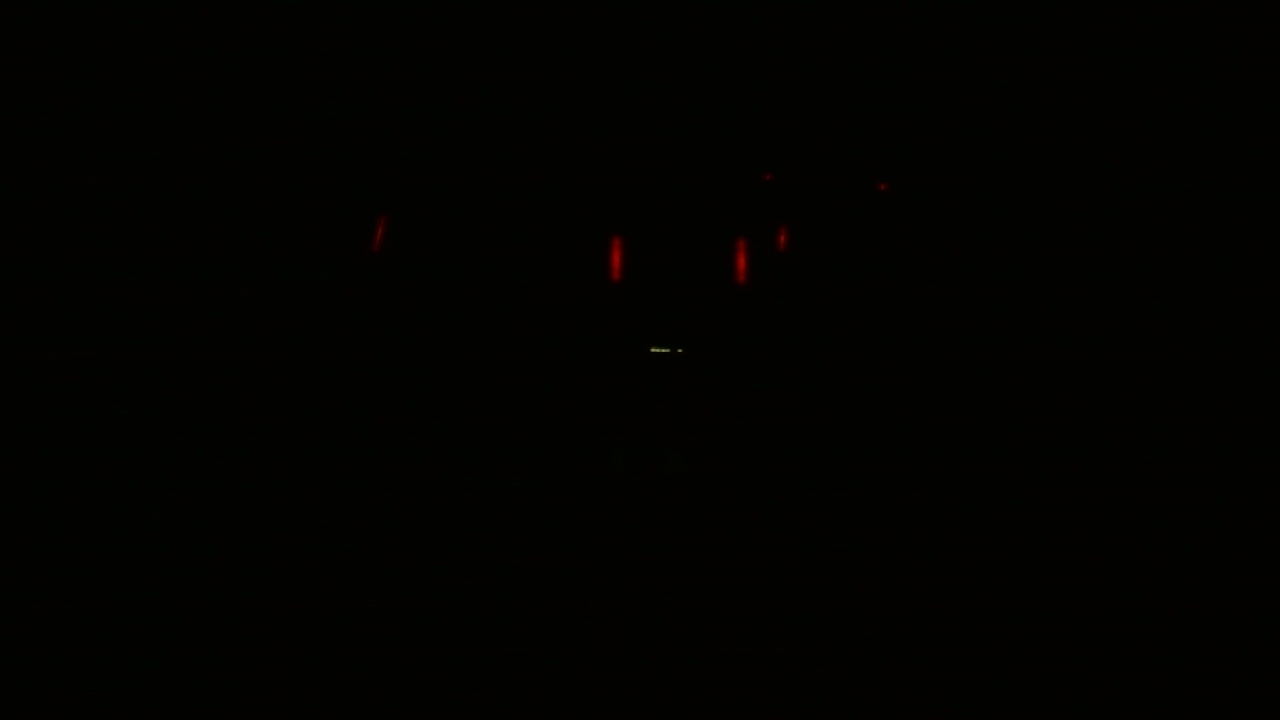pair1: (602, 229, 750, 292)
